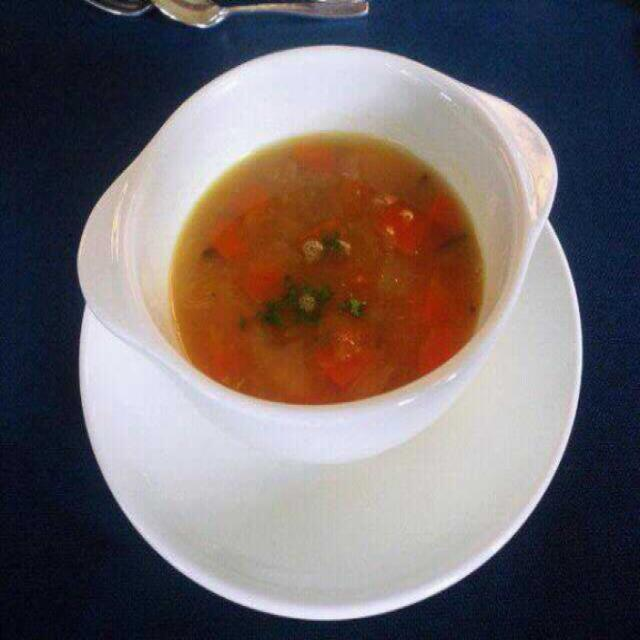蔬菜料理: (94, 0, 622, 640)
